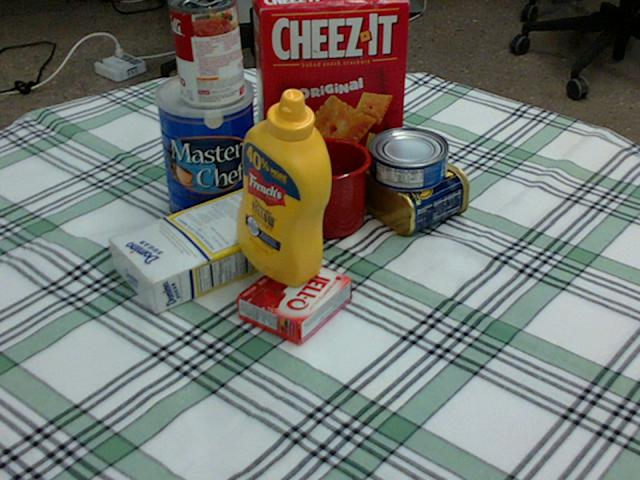cracker_box: (254, 0, 409, 186)
gelatin_box: (237, 255, 352, 344)
master_chef_can: (154, 71, 258, 227)
mug: (284, 135, 371, 237)
mustard_bottle: (236, 88, 331, 286)
potted_meat_can: (353, 140, 467, 232)
sugar_box: (107, 183, 302, 313)
tomato_soup_can: (169, 0, 244, 107)
tuna_fish_can: (368, 128, 447, 190)
